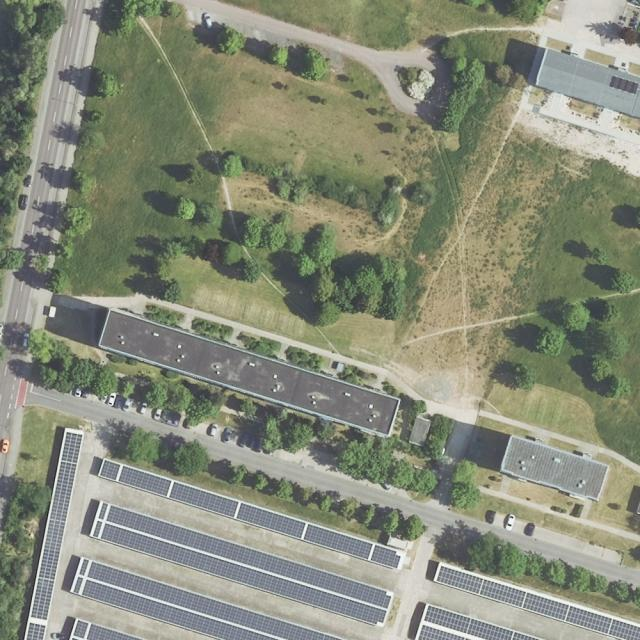PV: (90, 499, 394, 624), (96, 455, 402, 569), (72, 556, 345, 640), (26, 434, 83, 640), (435, 564, 604, 632), (416, 601, 550, 640), (72, 618, 151, 640)
